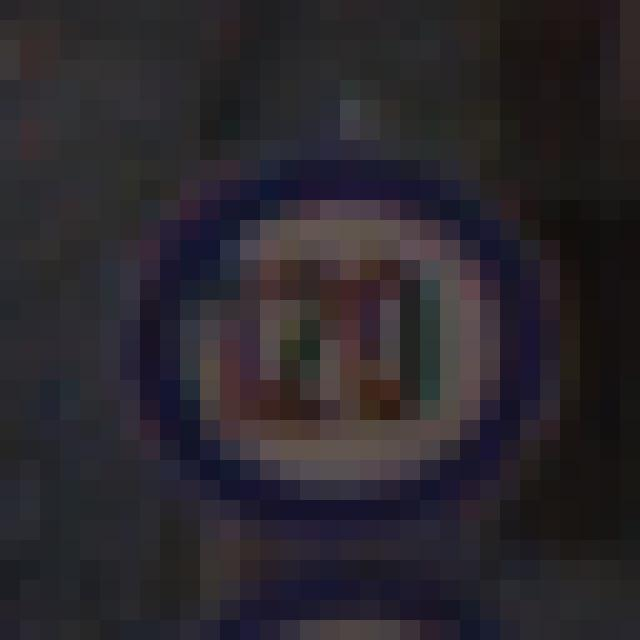SPEED LIMIT 120: (130, 160, 552, 538)
